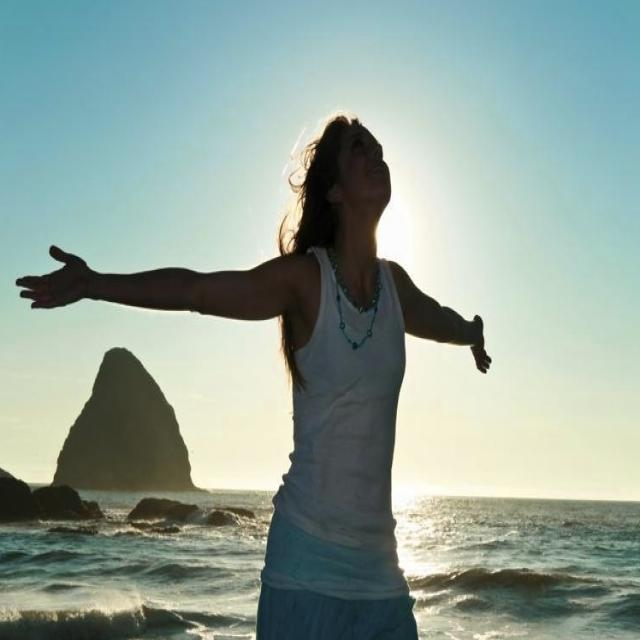piel: (13, 238, 320, 352), (389, 256, 495, 372), (327, 124, 390, 309)
